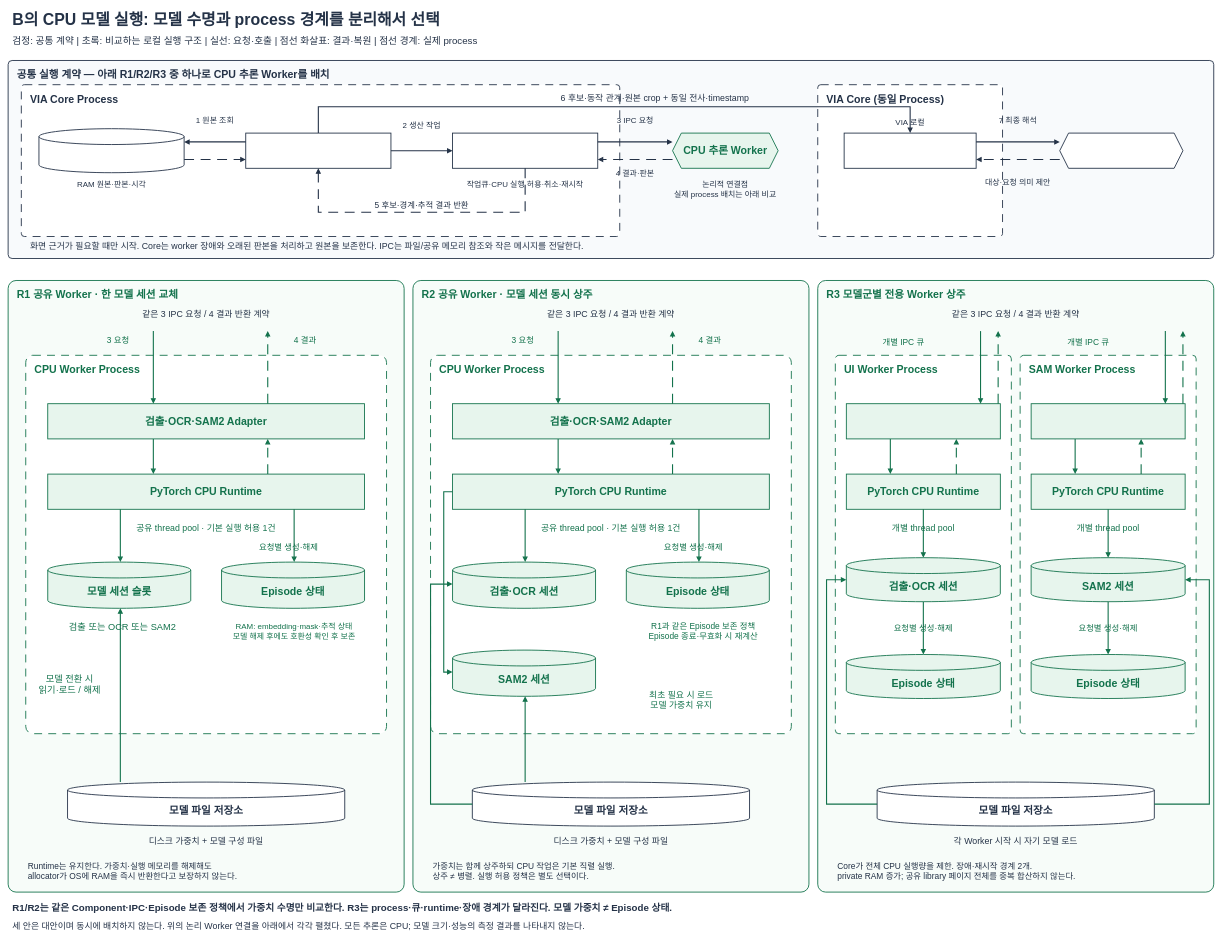
Image size: 1221x941. Some labels were removed from this diagram. Here are the shapes that lost their labels. From the top down, the centre of each, then its label:
At (111,150): "원본 근거 저장소".
At (318,150): "화면 대상 생산기".
At (525,150): "모델 실행 제어기".
At (909,150): "지칭 결합기".
At (1121,150): "클라우드 의미 LLM".
At (923,421): "검출·OCR Adapter".
At (1107,421): "SAM2 Adapter".
